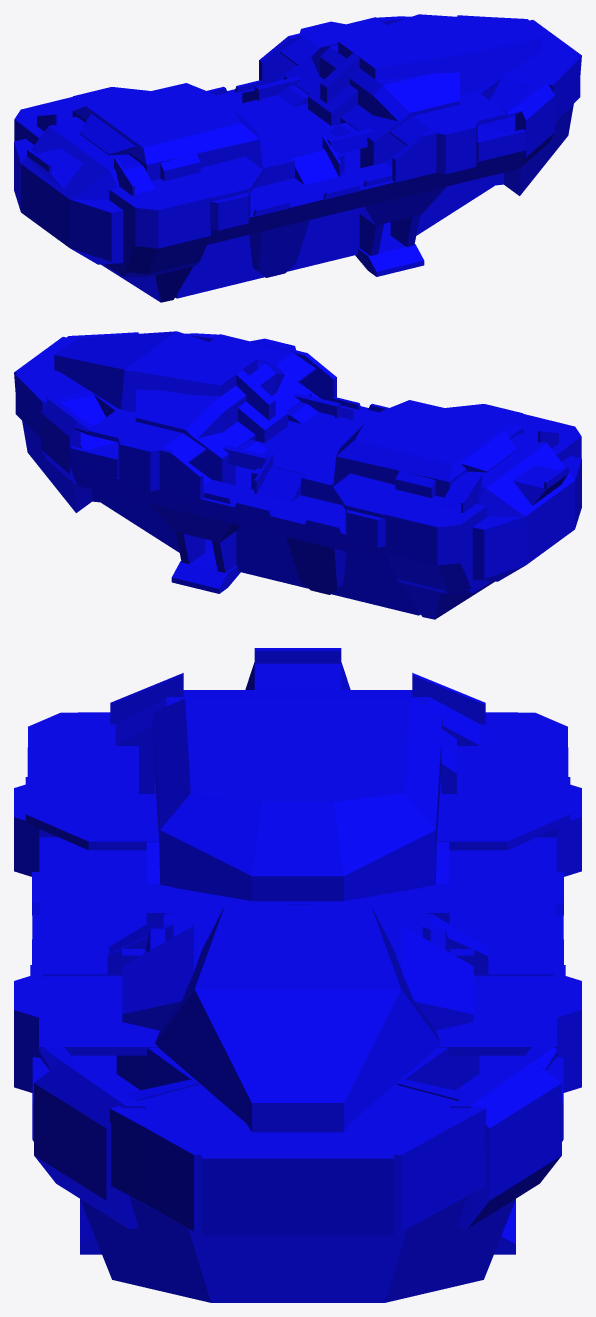
The model's file is mammoth_physics.fbx.
The picture shows the model from 3 angles, top to bottom: view 1: azimuth 30°, elevation 25°; view 2: azimuth 150°, elevation 25°; view 3: azimuth 270°, elevation 25°; orthographic projection. The views are drawn at different scales.
Parts seen in each view (by area): view 1: bigboy!.039, bigboy!.003, bigboy!.012, bigboy!.011, bigboy!.037, bigboy!.079, bigboy!.023, bigboy!.015, bigboy!.008, bigboy!.024, bigboy!.081, bigboy!.068 (+38 smaller); view 2: bigboy!.039, bigboy!.003, bigboy!.013, bigboy!.011, bigboy!.037, bigboy!.122, bigboy!.044, bigboy!.015, bigboy!.008, bigboy!.049, bigboy!.124, bigboy!.113 (+38 smaller); view 3: bigboy!.003, bigboy!.039, bigboy!.073, bigboy!.146, bigboy!.023, bigboy!.044, bigboy!.037, bigboy!.068, bigboy!.113, bigboy!.041, bigboy!.145, bigboy!.014 (+25 smaller).
Boxes of the visible parts, x1,y1,x2,y2 form: bigboy!.039: (338, 14, 541, 94); bigboy!.003: (72, 83, 262, 180); bigboy!.012: (109, 177, 210, 274); bigboy!.011: (14, 138, 123, 264); bigboy!.037: (311, 43, 460, 121); bigboy!.079: (175, 213, 336, 298); bigboy!.023: (207, 172, 366, 244); bigboy!.015: (231, 95, 338, 161); bigboy!.008: (21, 118, 140, 199); bigboy!.024: (344, 150, 525, 207); bigboy!.081: (249, 220, 309, 277); bigboy!.068: (515, 78, 554, 167); bigboy!.039: (54, 331, 257, 411); bigboy!.003: (333, 400, 523, 497); bigboy!.013: (385, 494, 486, 591); bigboy!.011: (472, 455, 581, 581); bigboy!.037: (135, 360, 284, 438); bigboy!.122: (259, 530, 420, 615); bigboy!.044: (229, 489, 388, 561); bigboy!.015: (257, 412, 364, 478); bigboy!.008: (455, 435, 574, 516); bigboy!.049: (70, 467, 251, 524); bigboy!.124: (286, 537, 346, 594); bigboy!.113: (41, 395, 80, 484); bigboy!.003: (153, 698, 442, 901); bigboy!.039: (155, 904, 440, 1132); bigboy!.073: (80, 1196, 515, 1302); bigboy!.146: (202, 1118, 393, 1235); bigboy!.023: (32, 837, 146, 974); bigboy!.044: (449, 837, 563, 974); bigboy!.037: (122, 925, 473, 1030); bigboy!.068: (34, 1061, 145, 1228); bigboy!.113: (450, 1061, 561, 1228); bigboy!.041: (109, 1084, 207, 1231); bigboy!.145: (388, 1084, 486, 1231); bigboy!.014: (25, 777, 159, 850).
Size of the model in its own units: 1075 by 2228 by 707.
